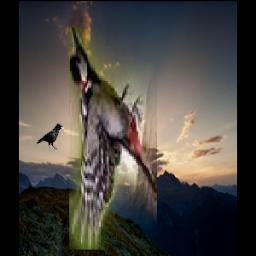Crow: (37, 124, 64, 153)
Woodpecker: (68, 28, 156, 250)
